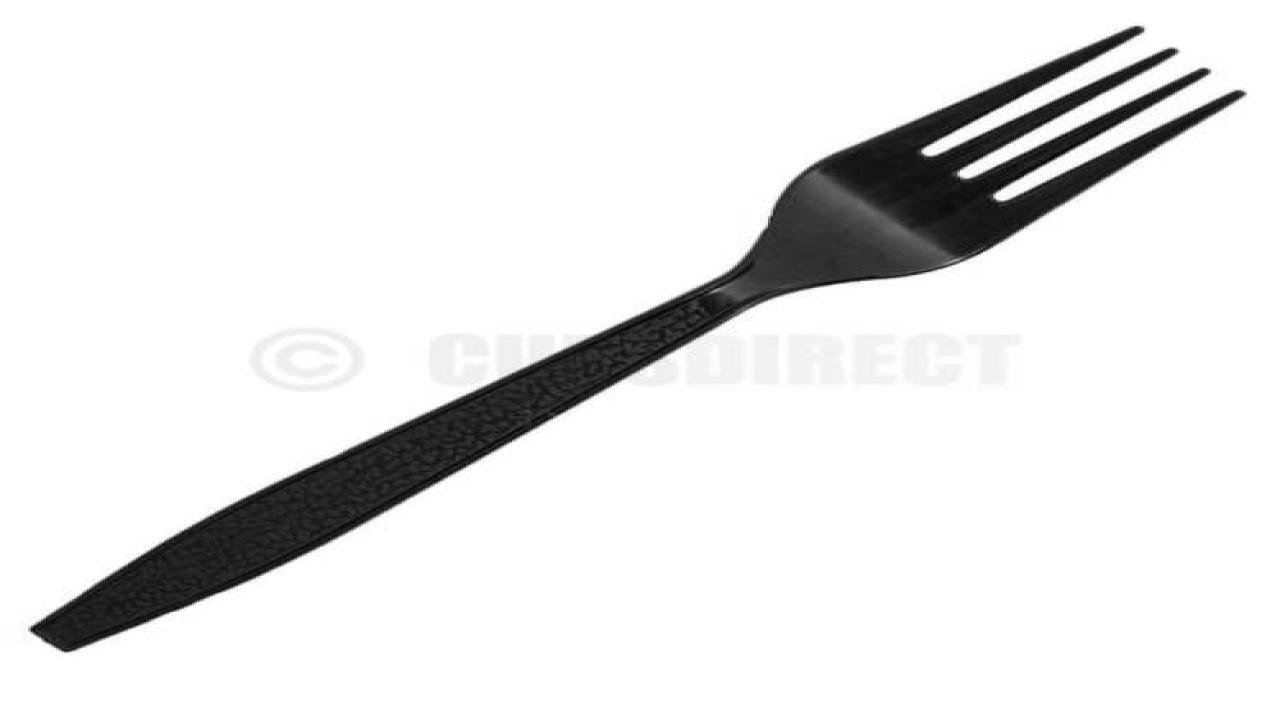fork: (26, 22, 1246, 652)
